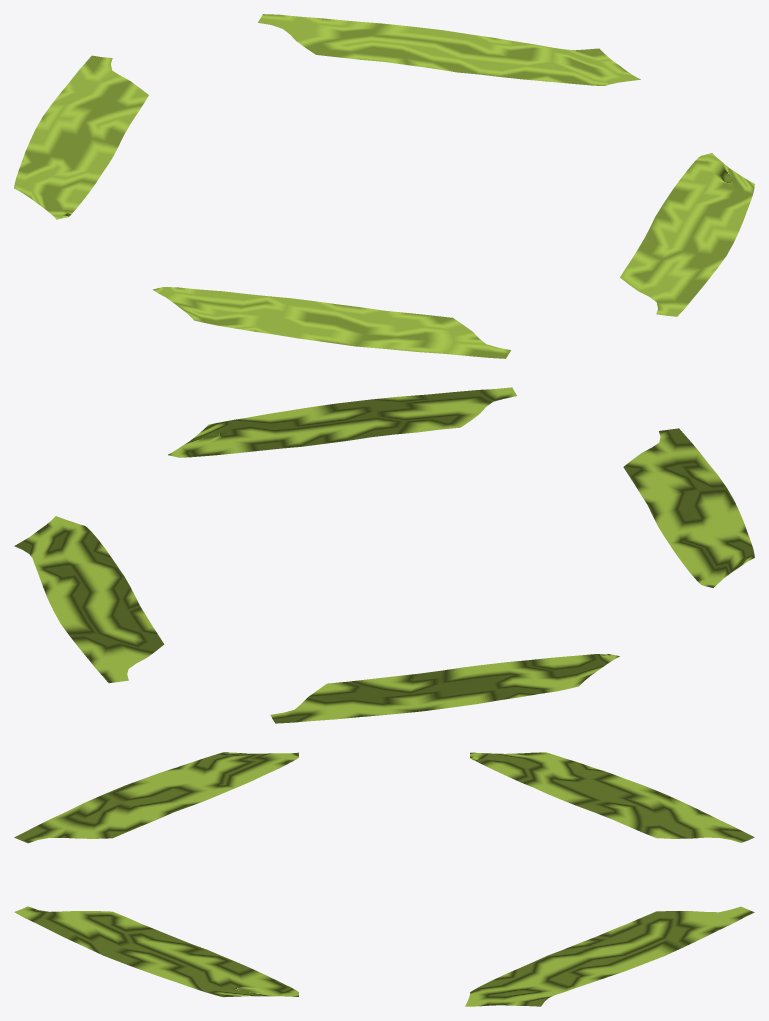
The model's file is planter_soil_factory_line_a.glb.
The picture shows the model from 3 angles, top to bottom: view 1: azimuth 30°, elevation 25°; view 2: azimuth 150°, elevation 25°; view 3: azimuth 270°, elevation 25°; orthographic projection. The views are drawn at different scales.
Size of the model in its own units: 45.7 by 0.0824 by 56.28.
